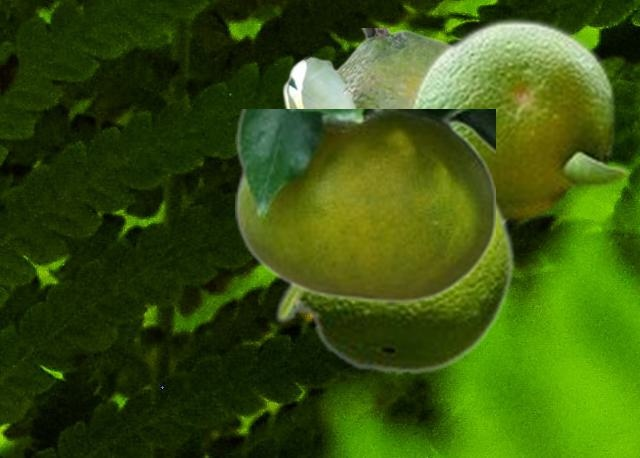dalandan: (273, 140, 515, 375), (235, 109, 494, 303), (406, 15, 631, 223), (281, 28, 446, 108)
